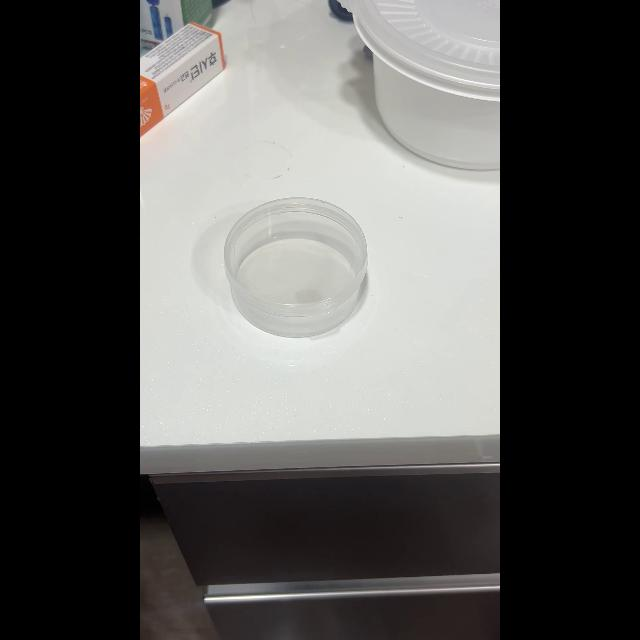clean: (219, 193, 369, 341)
